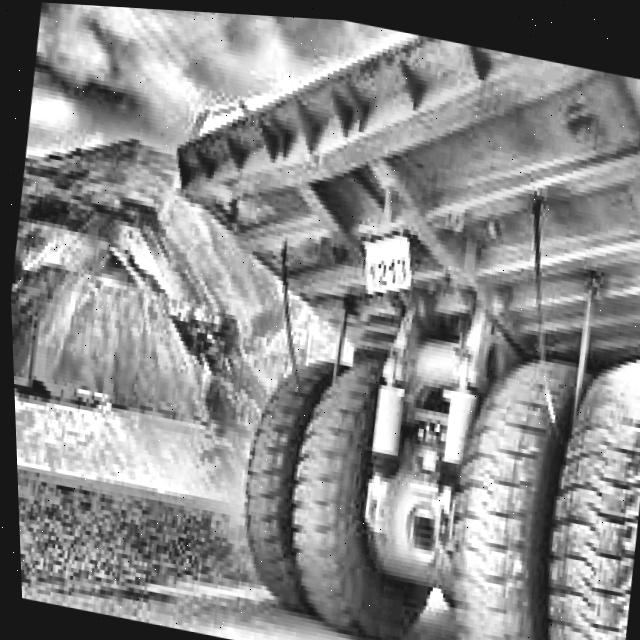dump_truck: (110, 5, 640, 640)
